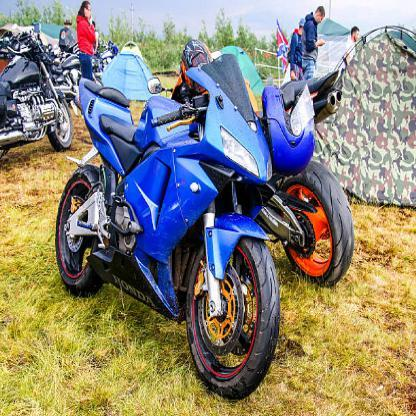Motorcycle: (50, 49, 279, 397)
